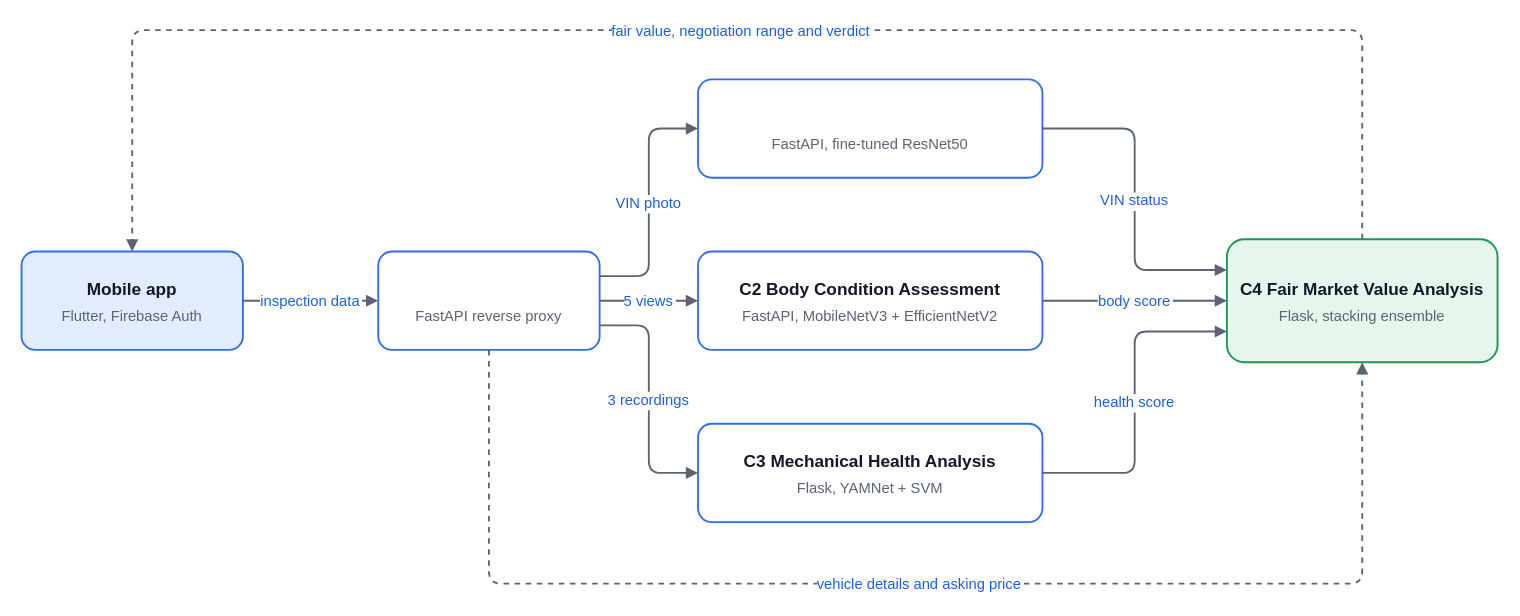
Image size: 1520x616. Some labels were removed from this diagram. Each missing label, with the box of its shape:
API gateway: (377, 250, 600, 350)
C1 VIN Authentication: (697, 78, 1043, 178)
